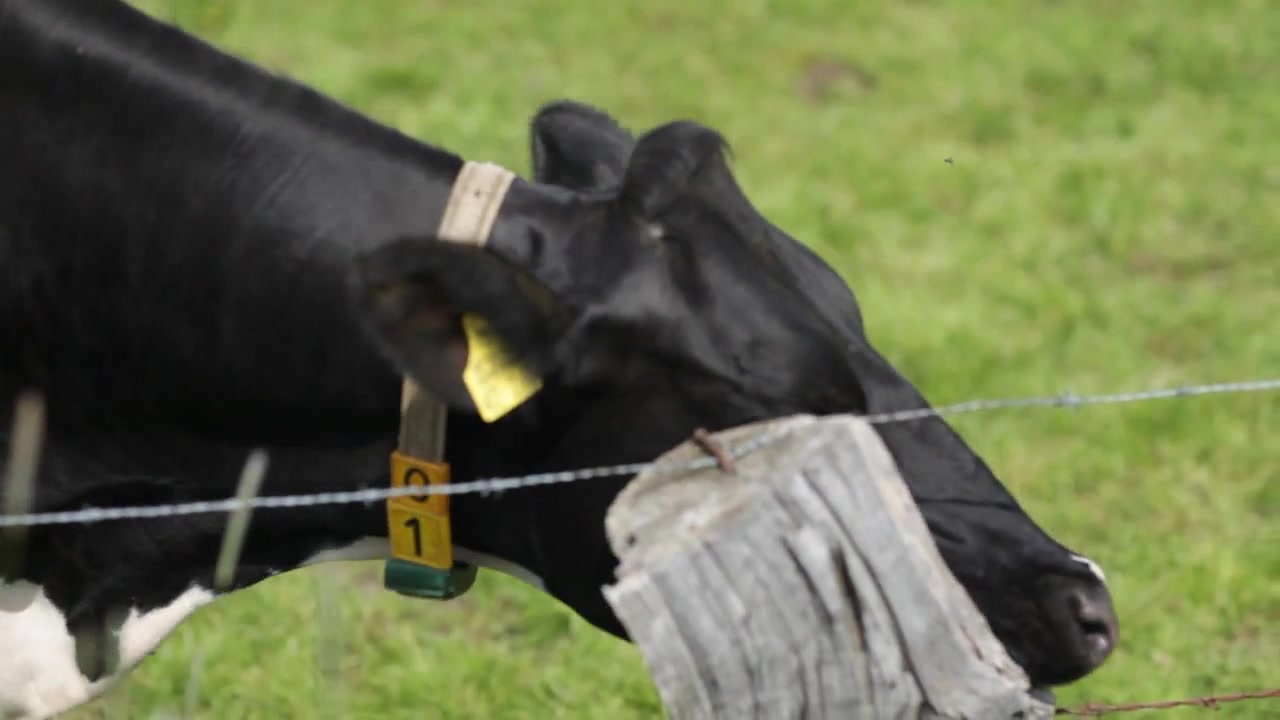cow: (1, 1, 1120, 720)
